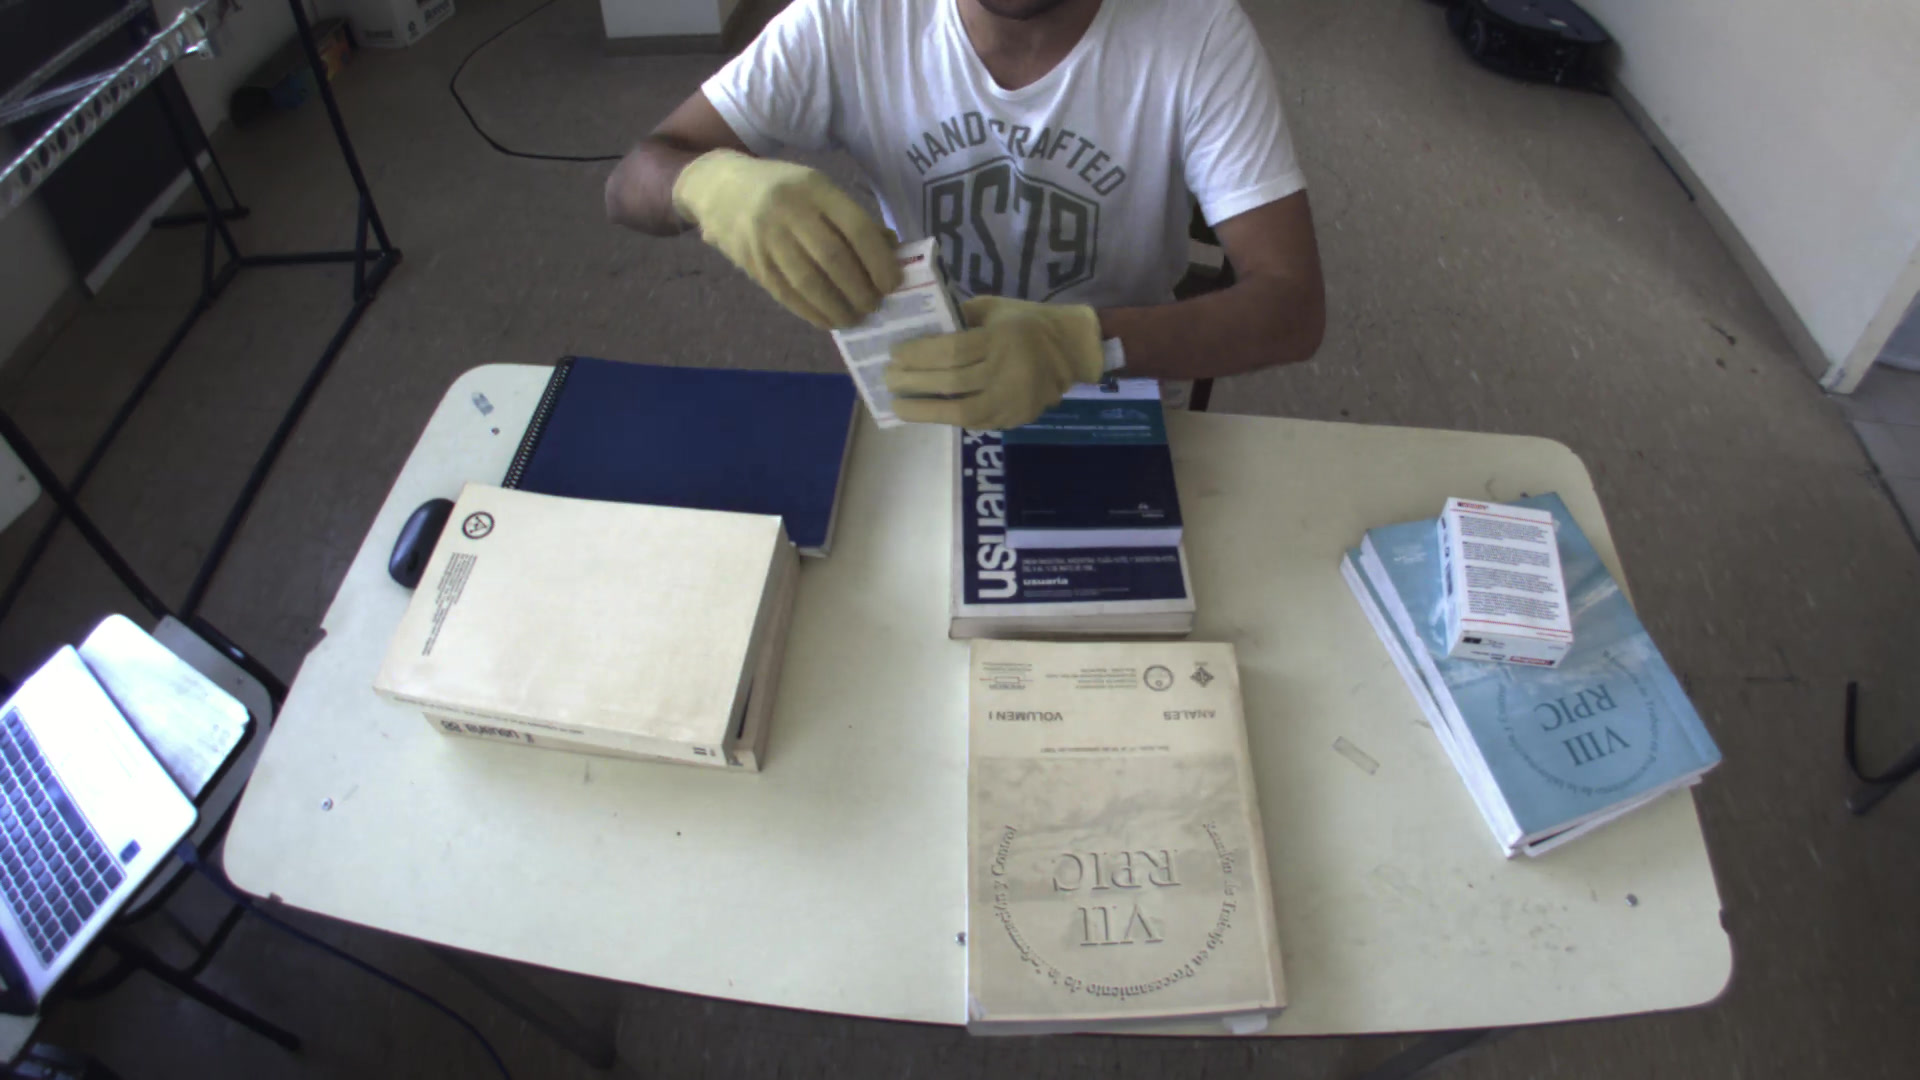hand: (659, 136, 909, 332), (872, 273, 1118, 440)
